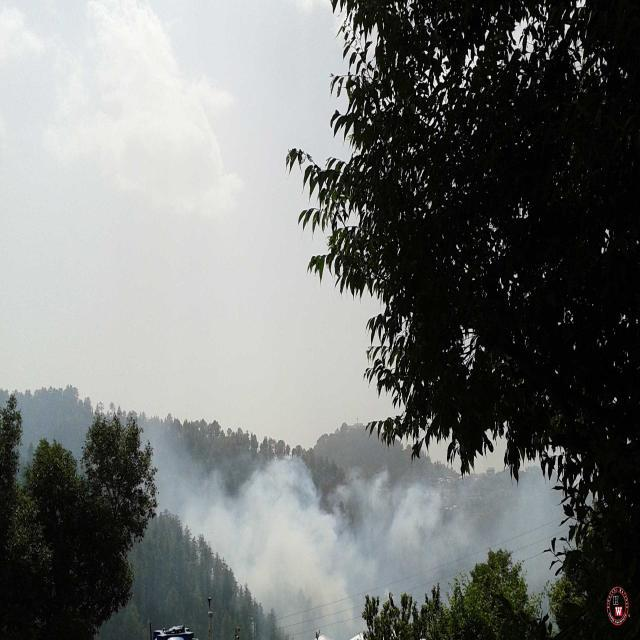Smoke: (194, 468, 482, 630), (352, 443, 578, 640)
